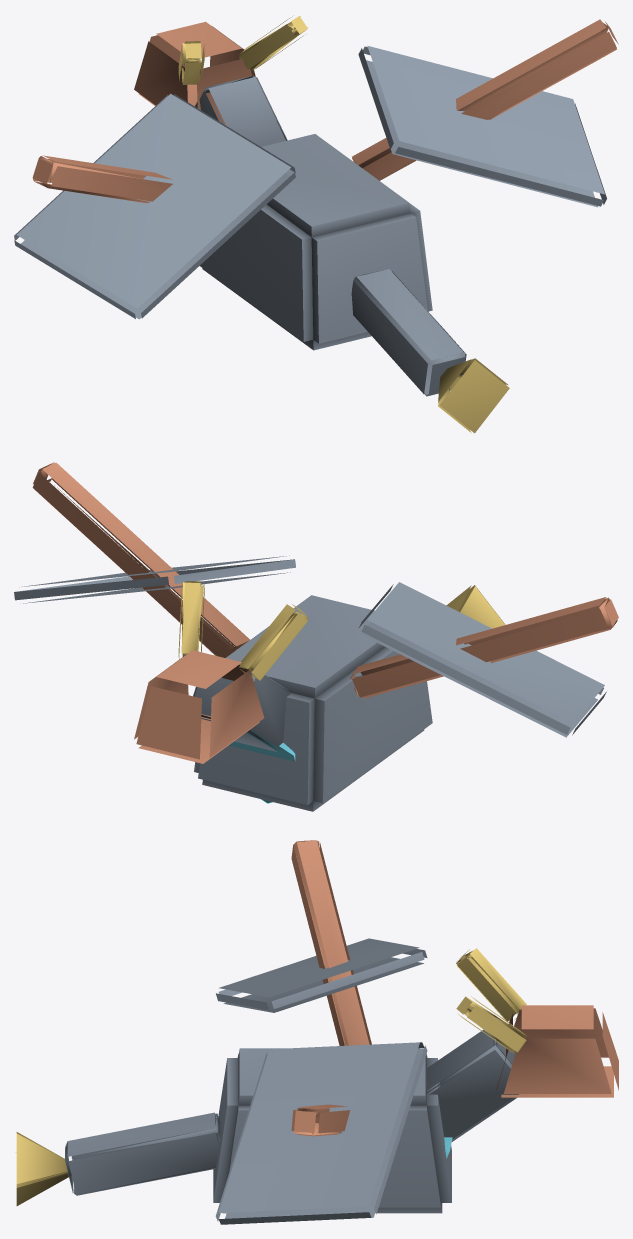
The model's file is glyph_drake_lod1.glb.
The picture shows the model from 3 angles, top to bottom: view 1: azimuth 30°, elevation 25°; view 2: azimuth 150°, elevation 25°; view 3: azimuth 270°, elevation 25°; orthographic projection.
Parts seen in each view (by area): view 1: glyph_drake.001; view 2: glyph_drake.001; view 3: glyph_drake.001.
Boxes of the visible parts, box(x1,y1,x2,y2) form: glyph_drake.001: box(14, 16, 618, 433); glyph_drake.001: box(14, 462, 618, 811); glyph_drake.001: box(16, 840, 618, 1224).
Bounding box in the file's own units: 2.41 × 0.9289 × 2.2.
